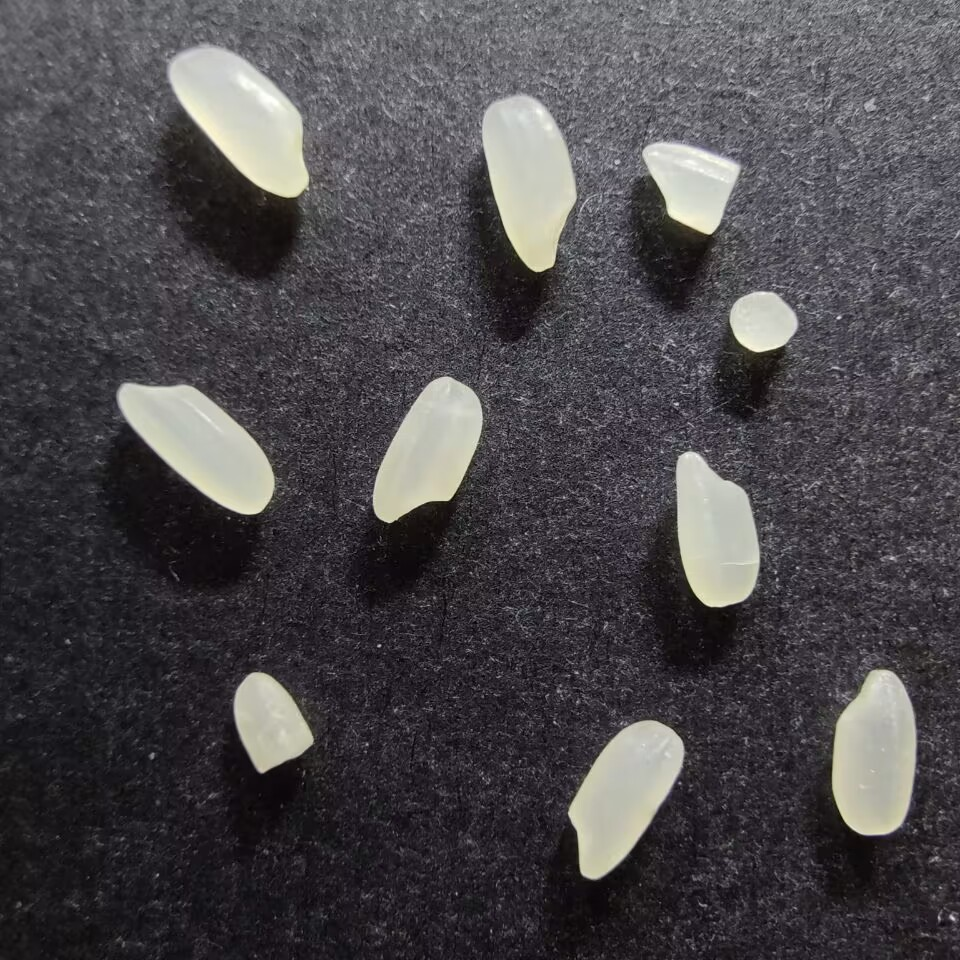broken: (640, 139, 741, 236), (231, 667, 316, 775), (729, 290, 800, 356)
rice: (165, 44, 311, 199), (114, 380, 276, 516), (565, 719, 685, 881), (480, 93, 579, 272), (370, 375, 484, 525), (830, 667, 918, 838), (673, 449, 760, 610)
